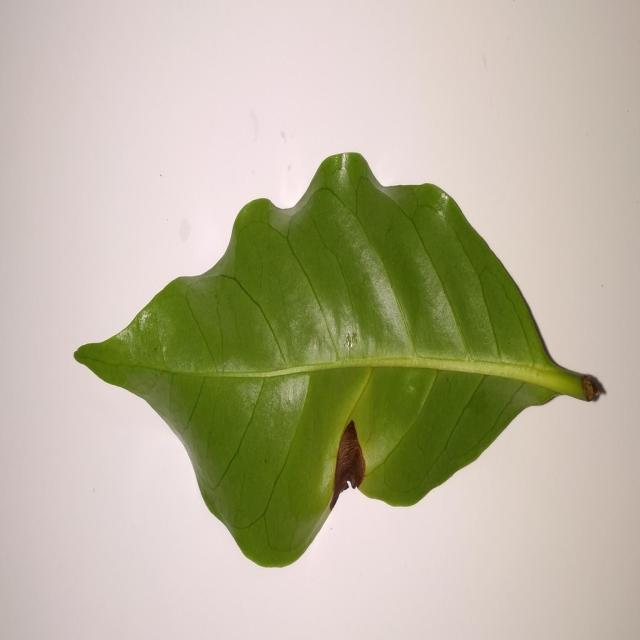Enfermedad-Antracnosis: (72, 152, 606, 571)
